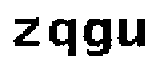g: (81, 16, 115, 60)
q: (46, 15, 78, 60)
u: (116, 15, 147, 49)
z: (7, 16, 40, 51)
